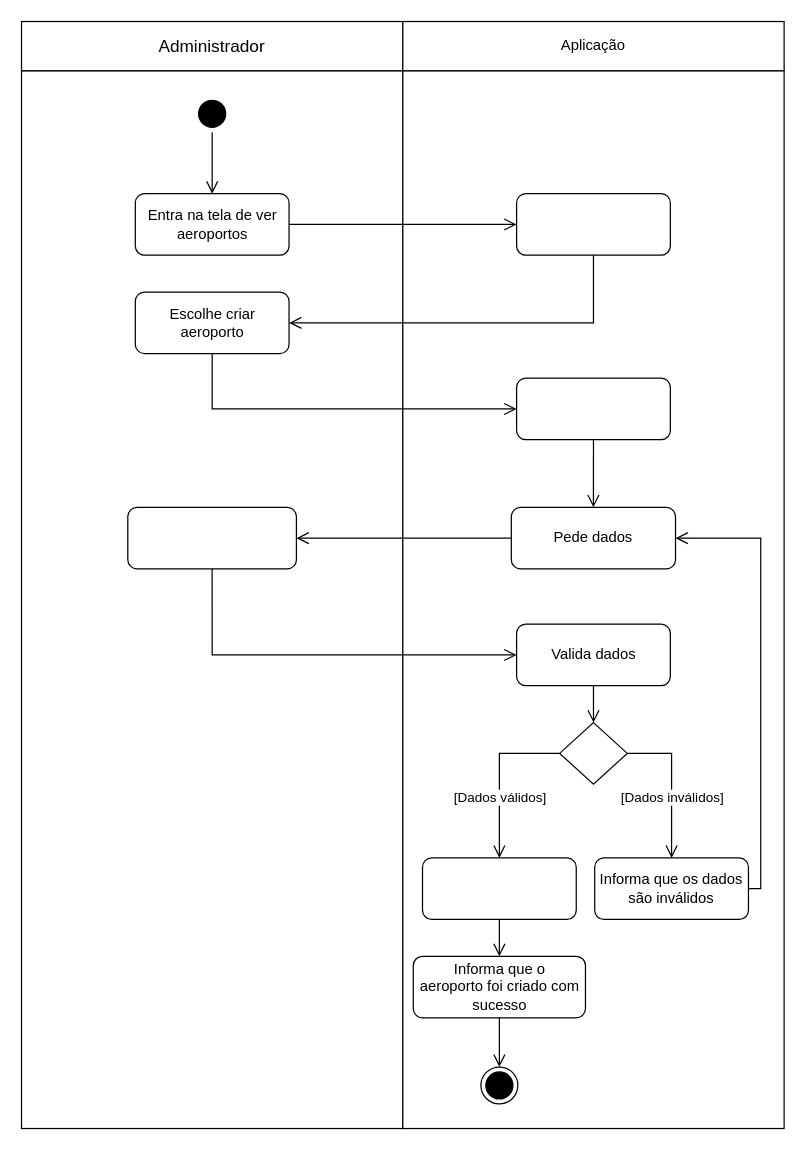
The diagram is 806 pixels wide and 1150 high, and some of its shapes have lost their labels. The centre of each missing label's shape, as x and y in pixels:
"Abre tela de criar aeroporto" goes at pixel 592 408.
"Cria aeroporto" goes at pixel 498 888.
"Insere dados" goes at pixel 211 537.
"Mostra aeroportos" goes at pixel 592 223.
